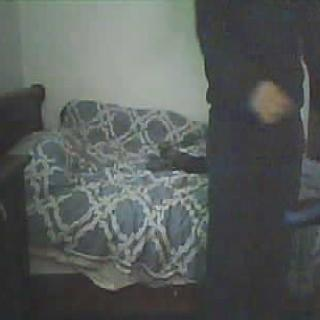Navy Sweatpants: (203, 110, 302, 320)
